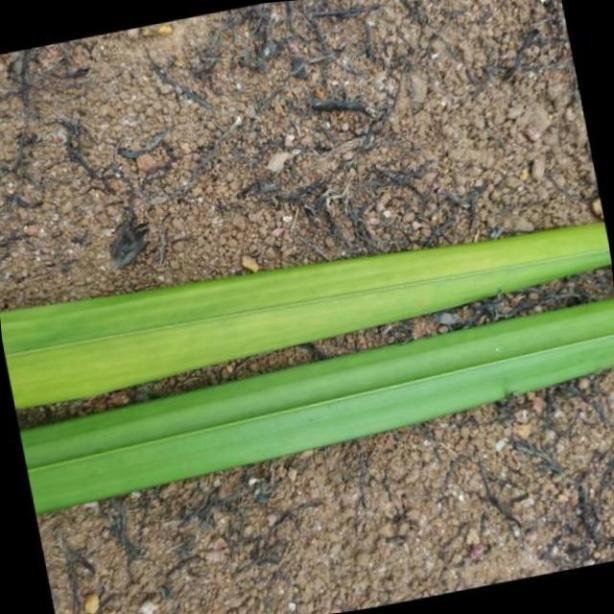nitrogen: (24, 291, 614, 515), (0, 222, 614, 408), (18, 468, 26, 472)
